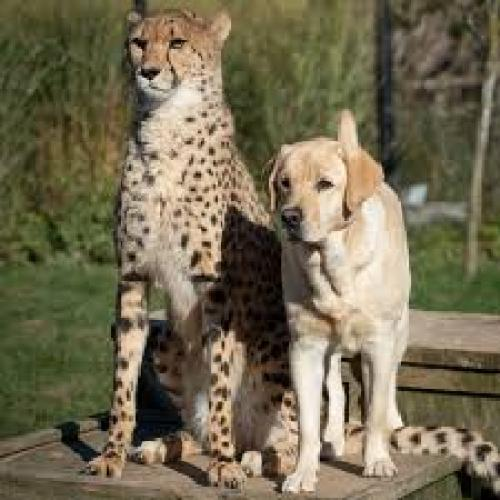cheetah-endangered: (99, 1, 306, 481)
